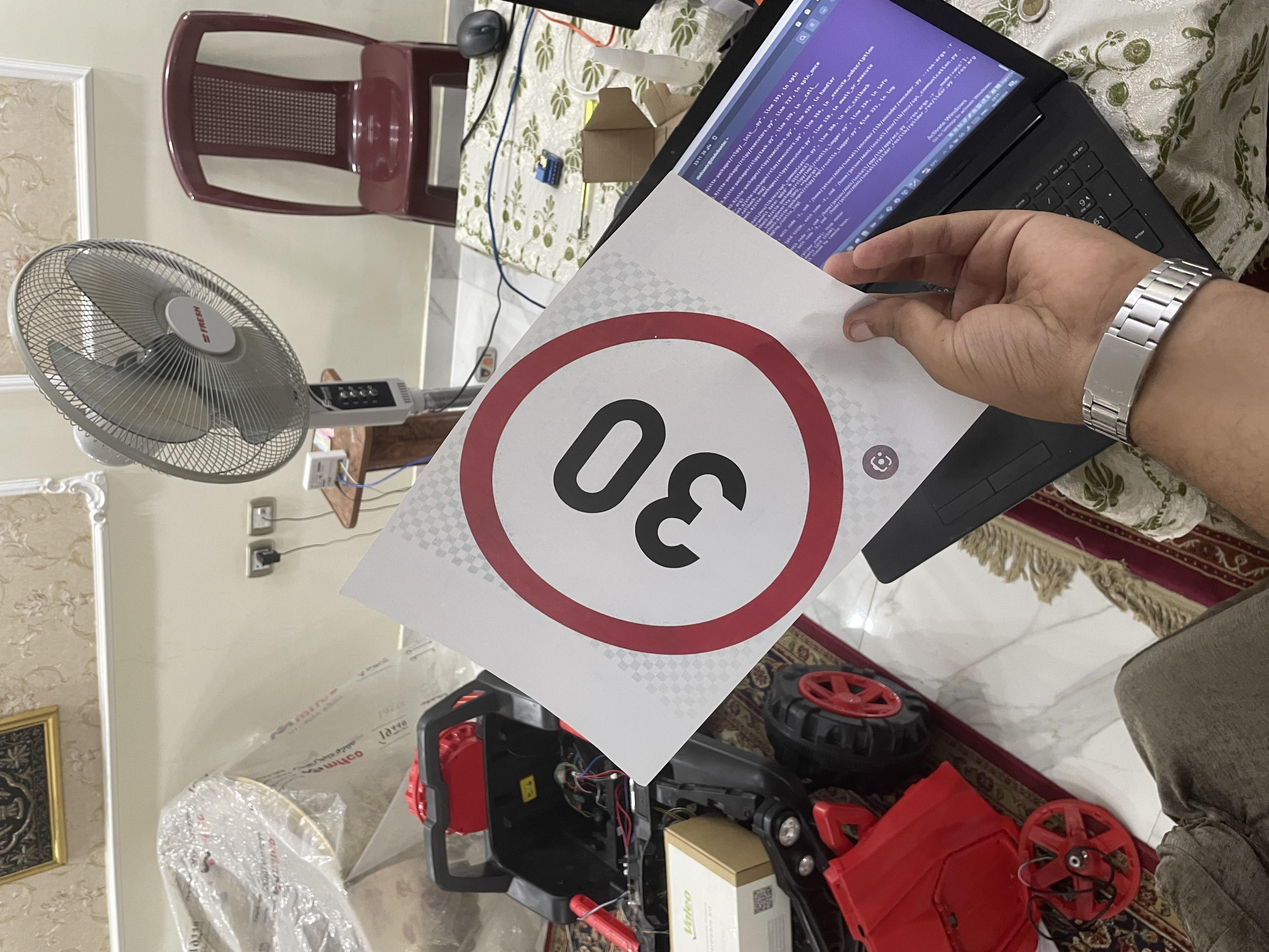30-speed: (379, 336, 865, 634)
